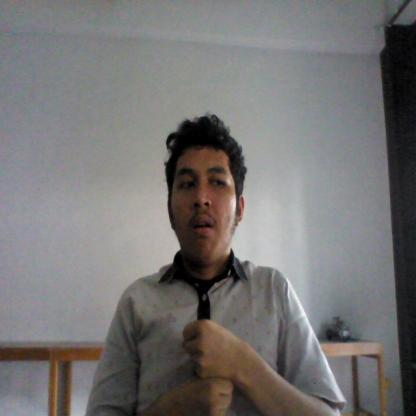G: (167, 317, 249, 416)
